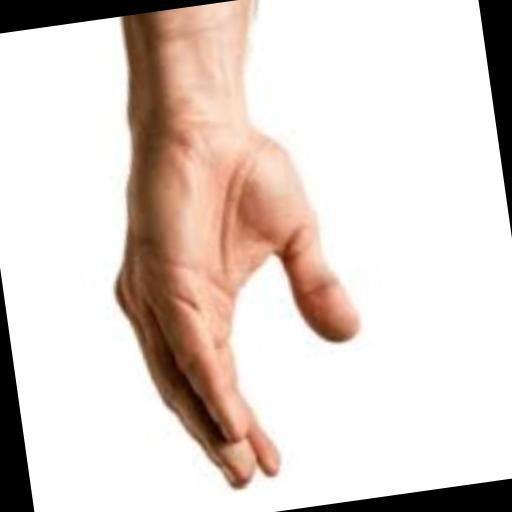Open_Palm: (33, 65, 442, 512)
